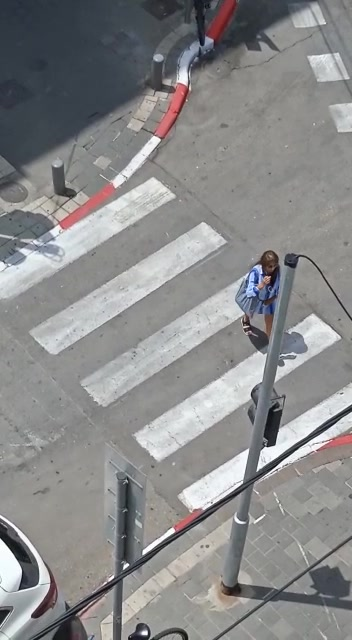crosswalk: (25, 176, 305, 468)
person: (230, 234, 293, 352)
